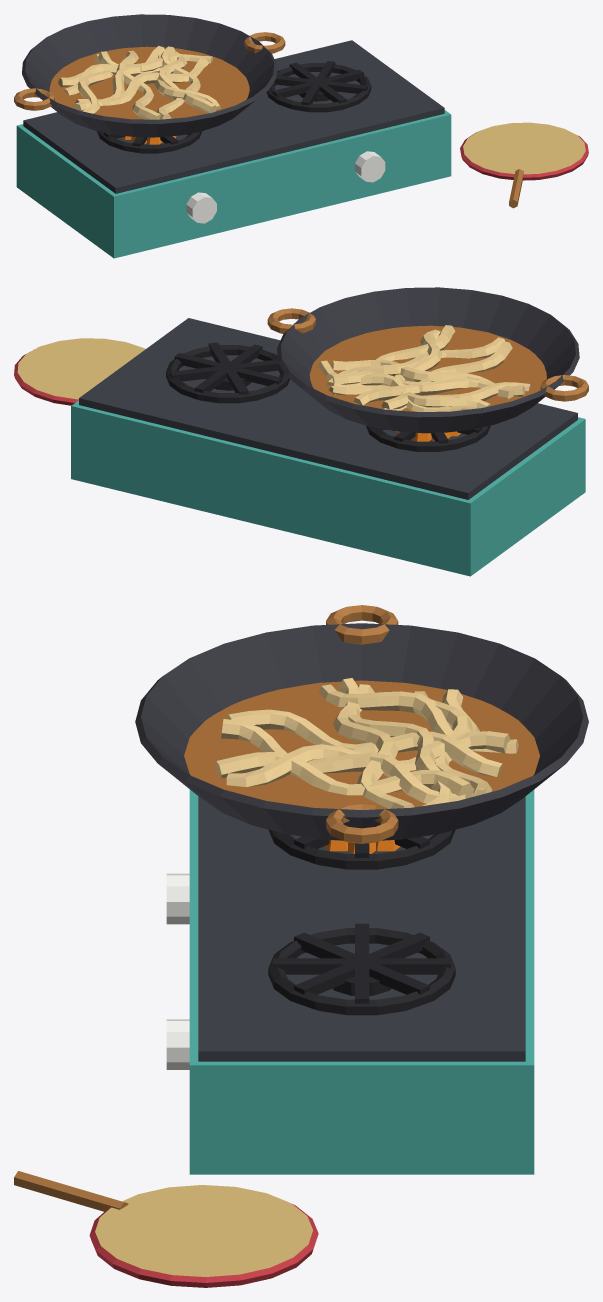
File: stove_kawali_pamaypay.obj
3 views of the same model, one above another, from view 1: azimuth 30°, elevation 25°; view 2: azimuth 150°, elevation 25°; view 3: azimuth 270°, elevation 25° (orthographic). The views are drawn at different scales.
Visible parts, largest first — view 1: stove_0, stove_top_1, wok_36, broth_37, fan_49, grate_9, noodle_46, grate_2, fan_trim_50, noodle_42, noodle_43, knob_15 (+14 smaller); view 2: stove_0, stove_top_1, wok_36, broth_37, fan_49, grate_9, noodle_42, noodle_46, noodle_41, grate_2, noodle_38, noodle_43 (+11 smaller); view 3: stove_top_1, stove_0, wok_36, fan_49, broth_37, grate_9, noodle_42, noodle_43, noodle_41, fan_trim_50, noodle_44, grate_2 (+14 smaller).
Part boxes in pixels (box(x1,y1,x2,y2)): stove_0: box(16, 110, 451, 258); stove_top_1: box(23, 40, 444, 193); wok_36: box(22, 14, 277, 137); broth_37: box(49, 46, 249, 119); fan_49: box(463, 122, 585, 174); grate_9: box(266, 63, 371, 112); noodle_46: box(75, 58, 208, 105); grate_2: box(97, 131, 202, 153); fan_trim_50: box(460, 132, 588, 180); noodle_42: box(116, 50, 160, 119); noodle_43: box(160, 46, 216, 113); knob_15: box(355, 151, 385, 182); stove_0: box(71, 400, 585, 576); stove_top_1: box(79, 318, 577, 499); wok_36: box(277, 287, 579, 433); broth_37: box(309, 325, 546, 411); fan_49: box(17, 338, 145, 399); grate_9: box(166, 345, 289, 403); noodle_42: box(353, 341, 512, 405); noodle_46: box(332, 359, 514, 398); noodle_41: box(326, 337, 505, 385); grate_2: box(366, 425, 490, 451); noodle_38: box(332, 383, 490, 408); noodle_43: box(332, 325, 455, 385); stove_top_1: box(198, 796, 525, 1061); stove_0: box(189, 789, 534, 1174); wok_36: box(135, 623, 588, 840); fan_49: box(95, 1185, 312, 1276); broth_37: box(184, 680, 539, 808); grate_9: box(268, 928, 455, 1015); noodle_42: box(228, 709, 502, 777); noodle_43: box(216, 752, 473, 798); noodle_41: box(221, 719, 465, 803); fan_trim_50: box(89, 1204, 318, 1287); noodle_44: box(226, 731, 510, 786); grate_2: box(268, 829, 455, 869).
Bounding box in the file's own units: 3.69 × 0.92 × 2.
